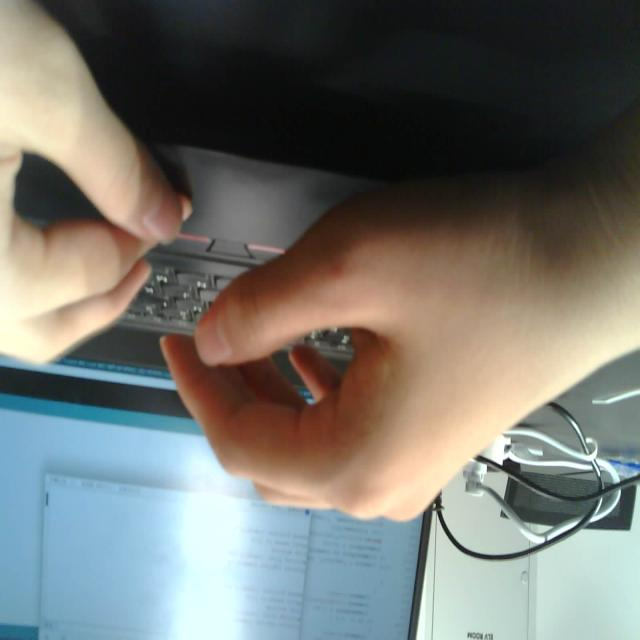keyboard-with-hands: (0, 112, 469, 389)
